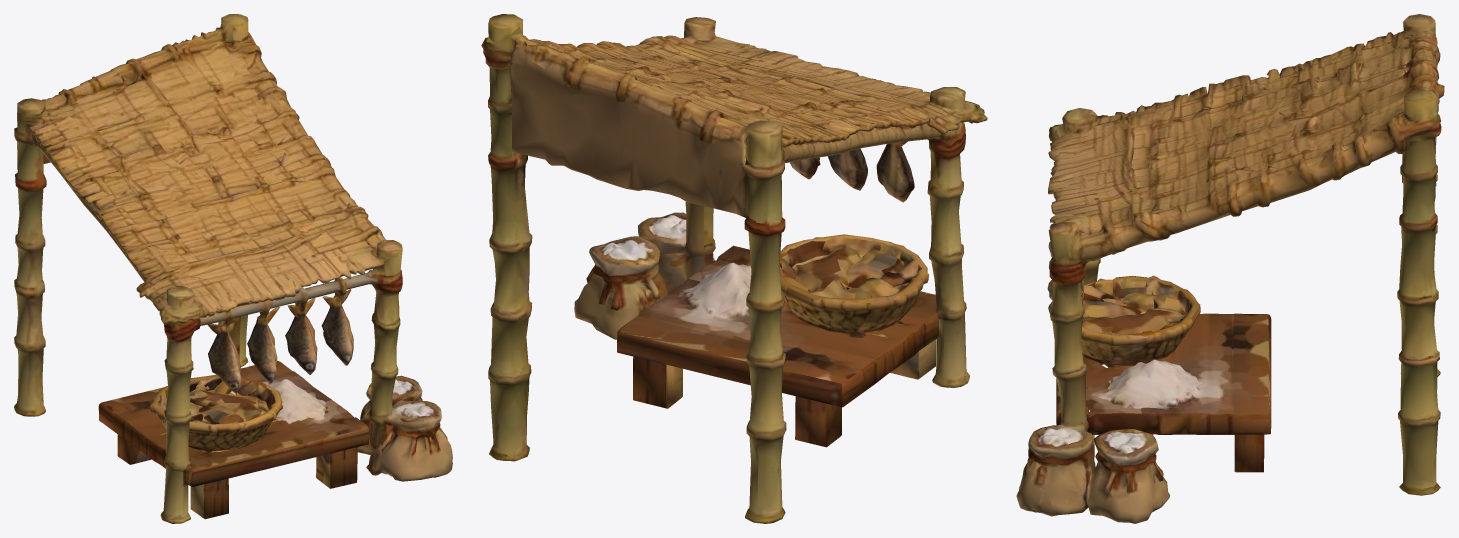
File: fish-stall.glb
3 renders of one model, left to right at view 1: azimuth 30°, elevation 25°; view 2: azimuth 150°, elevation 25°; view 3: azimuth 270°, elevation 25°, orthographic. The views are drawn at different scales.
Visible parts, largest first — view 1: 1_output_1793793577212048_RYMGDVkeQ; view 2: 1_output_1793793577212048_RYMGDVkeQ; view 3: 1_output_1793793577212048_RYMGDVkeQ.
Part boxes in pixels (bbox=[...]): 1_output_1793793577212048_RYMGDVkeQ: bbox=[14, 14, 452, 523]; 1_output_1793793577212048_RYMGDVkeQ: bbox=[481, 14, 987, 523]; 1_output_1793793577212048_RYMGDVkeQ: bbox=[1016, 14, 1444, 523].
Size of the model in its own units: 1.77 by 1.96 by 1.92.
1 material, 1 textured.
